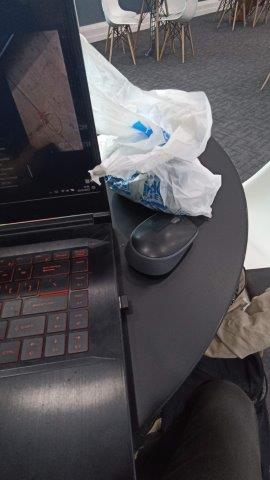plastik: (80, 35, 220, 218)
